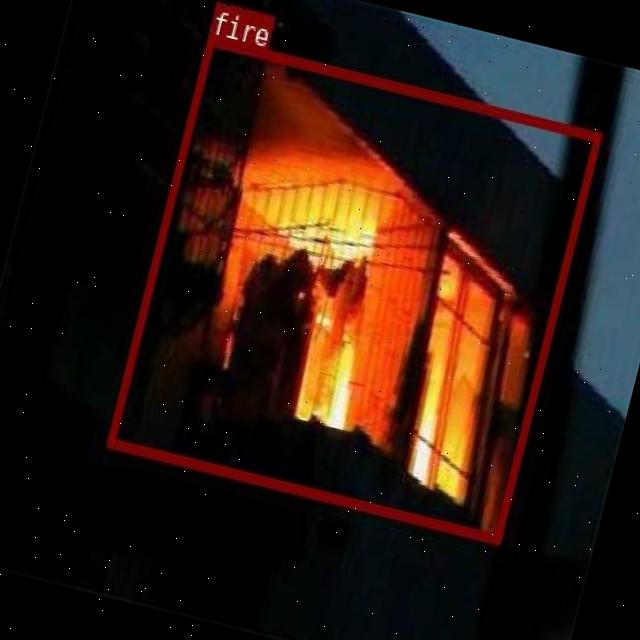fire: (106, 34, 601, 542)
